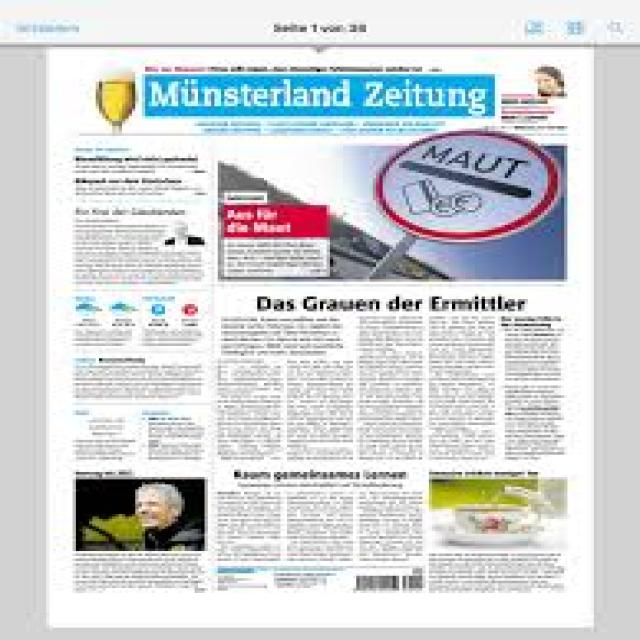paper: (20, 0, 602, 640)
